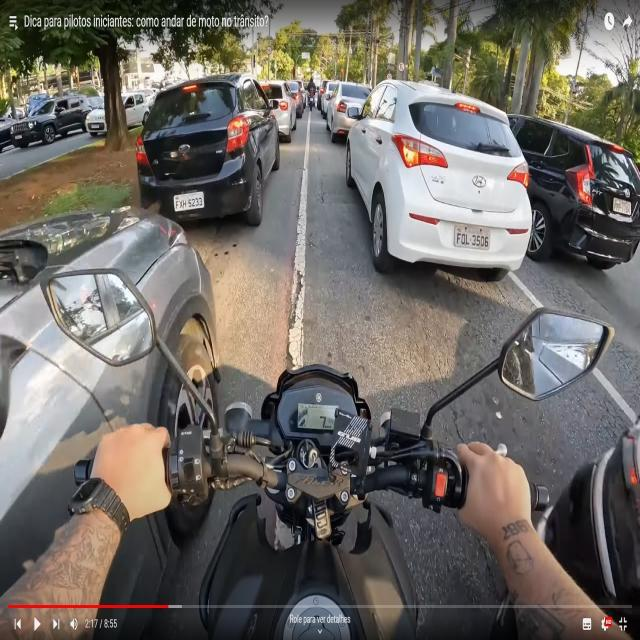Placa_mercosul_carro: (454, 225, 490, 249), (173, 191, 204, 211)
